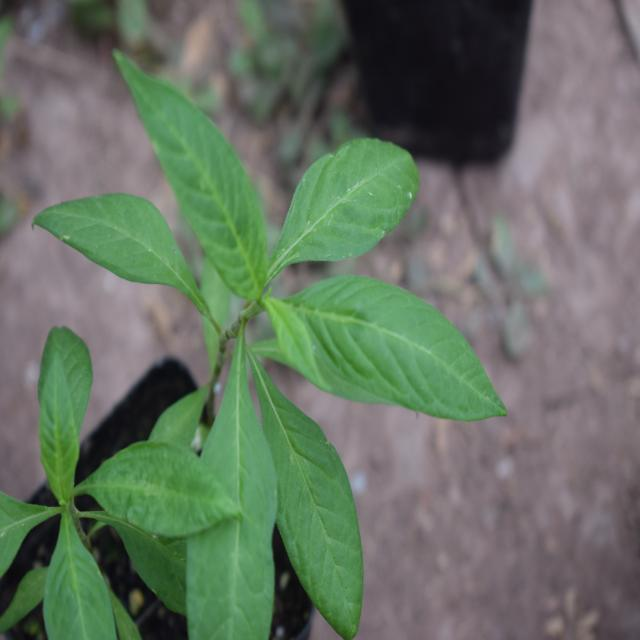white_smart_weed: (97, 62, 474, 614)
